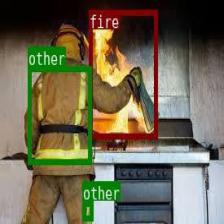fire: (88, 9, 157, 138)
